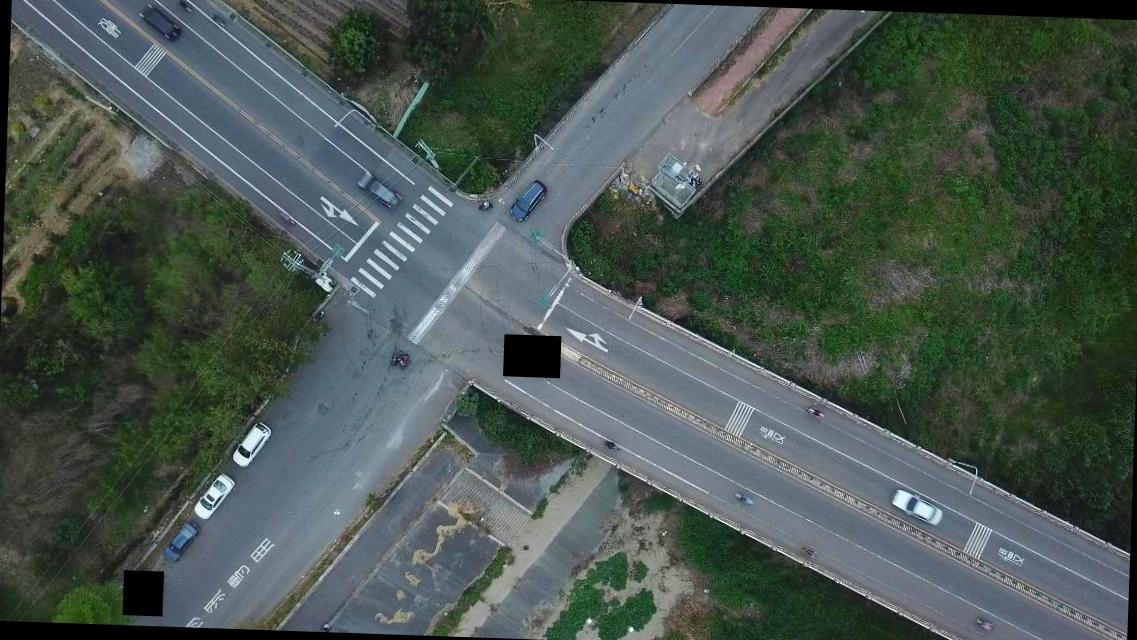vehicle: (890, 486, 942, 528), (193, 474, 236, 520), (507, 176, 548, 223), (232, 418, 270, 468), (136, 3, 179, 42), (354, 170, 399, 207), (162, 521, 200, 562)
